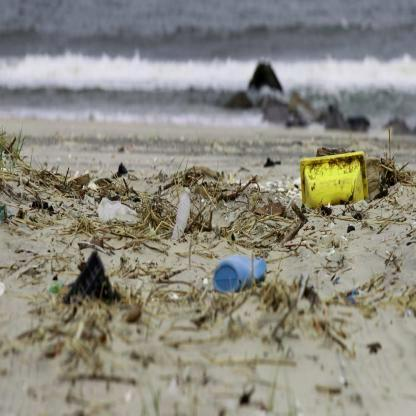Plastic: (295, 147, 369, 214), (210, 246, 270, 292), (166, 175, 193, 244)
Trash: (95, 192, 138, 224)
